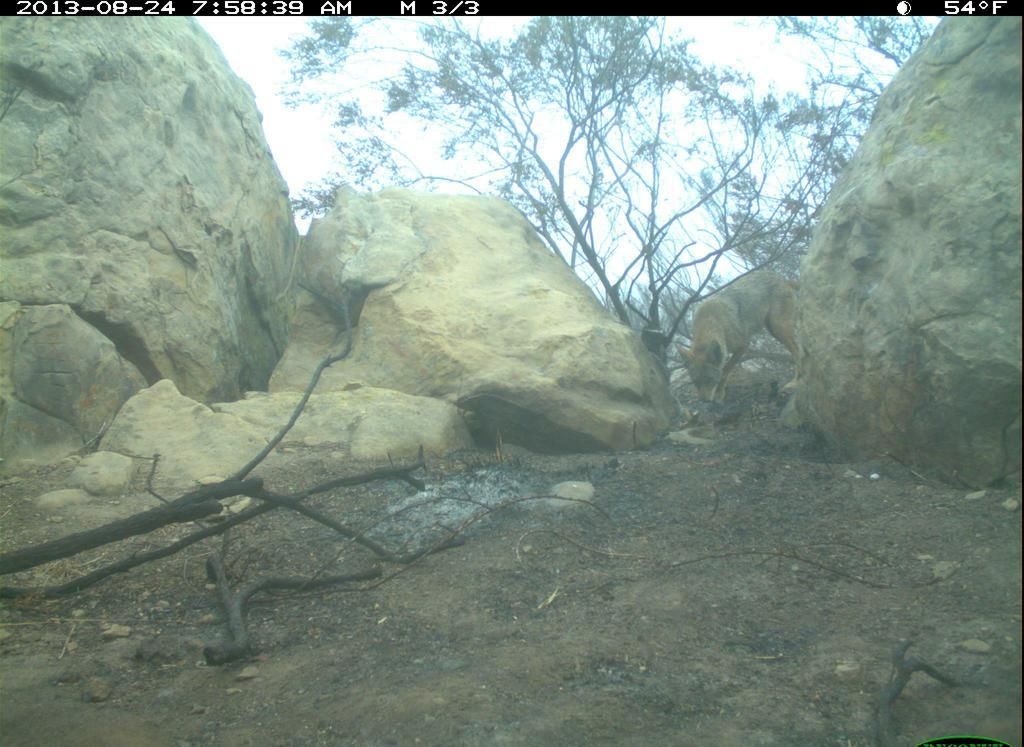coyote: (675, 258, 812, 436)
